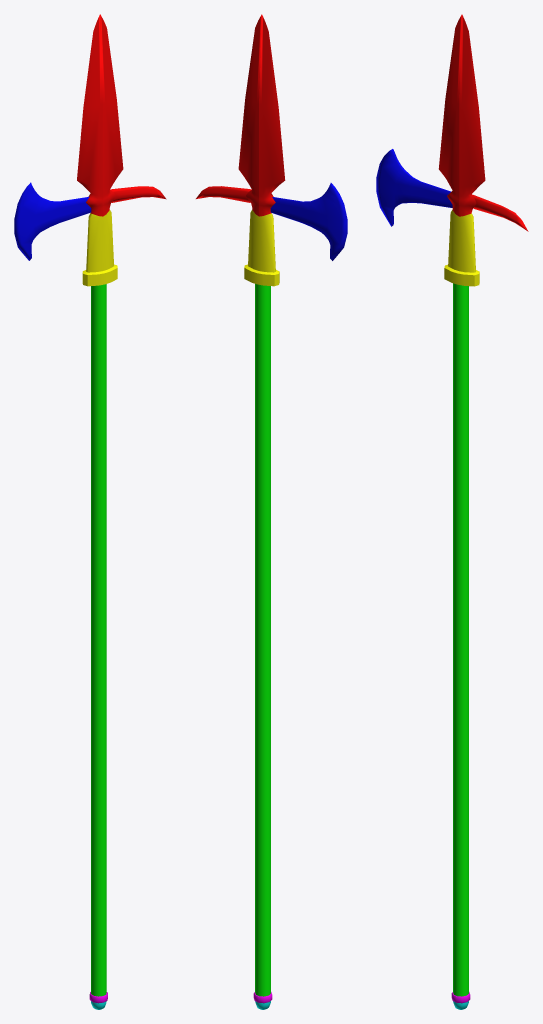
File: MSH_Lanza2_MID_Isaac.FBX
3 views of the same model, side by side, from view 1: azimuth 30°, elevation 25°; view 2: azimuth 150°, elevation 25°; view 3: azimuth 330°, elevation 25° (orthographic).
Visible parts, largest first — view 1: Lanza_2; view 2: Lanza_2; view 3: Lanza_2.
Part boxes in pixels (x1,y1,x2,y2): Lanza_2: (14, 14, 166, 1009); Lanza_2: (196, 14, 347, 1009); Lanza_2: (376, 14, 528, 1009).
Size of the model in its own units: 30.39 by 190 by 3.28.
